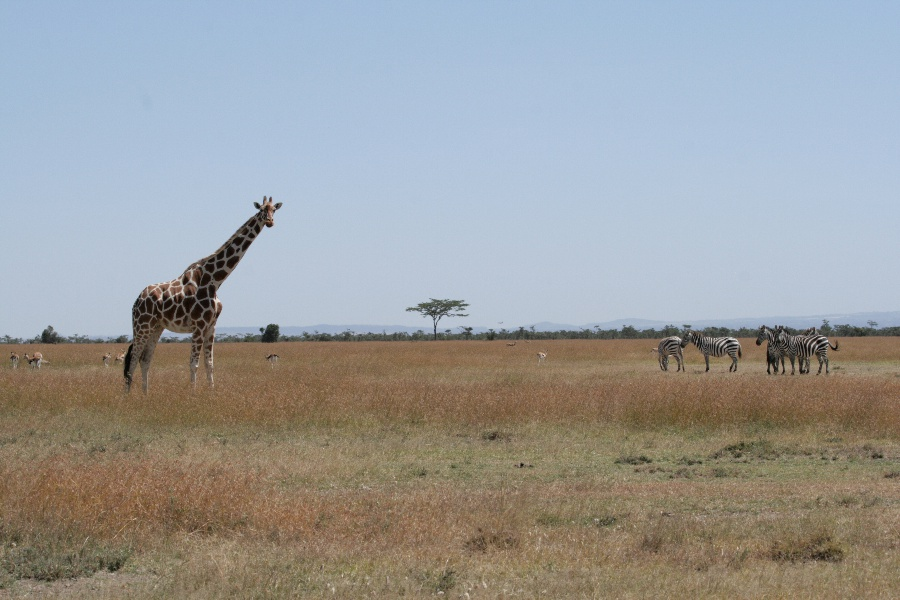giraffe: (106, 185, 295, 414)
